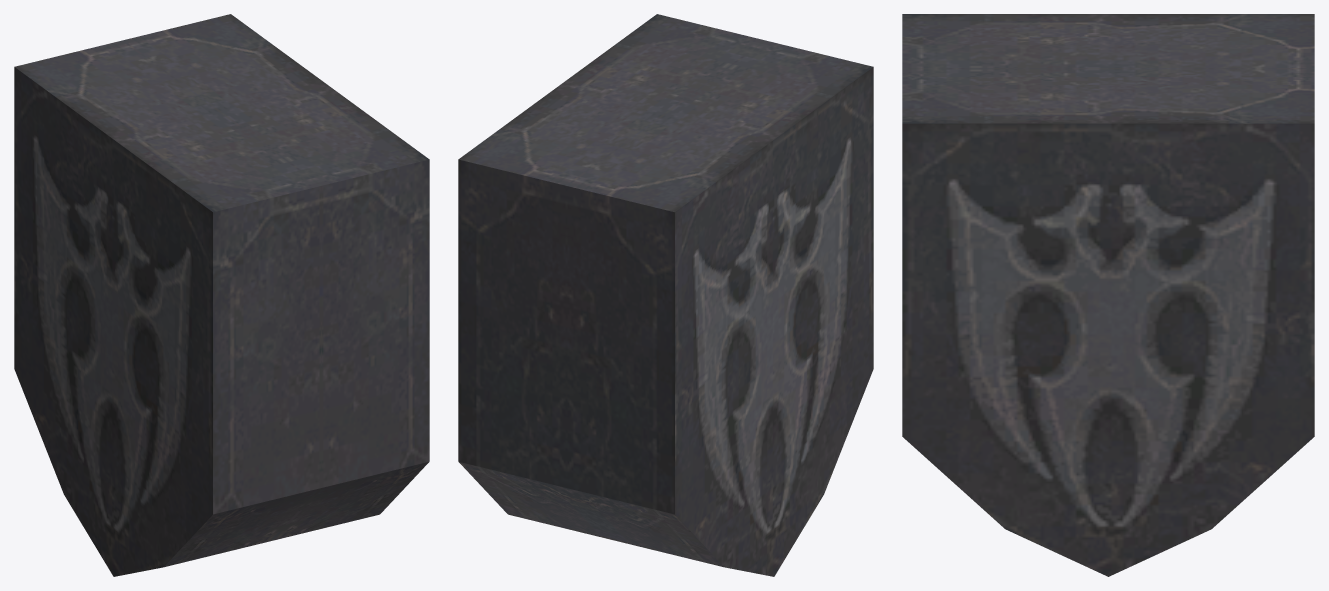
The model's file is bg_rad_kamen_deco05_sm_jjh.obj.
The picture shows the model from 3 angles, left to right: view 1: azimuth 30°, elevation 25°; view 2: azimuth 150°, elevation 25°; view 3: azimuth 270°, elevation 25°; orthographic projection. The views are drawn at different scales.
Parts seen in each view (by area): view 1: bg_rad_kamen_deco05_sm_jjh_0; view 2: bg_rad_kamen_deco05_sm_jjh_0; view 3: bg_rad_kamen_deco05_sm_jjh_0.
Part boxes in pixels (<box>): bg_rad_kamen_deco05_sm_jjh_0: <box>14,14,429,576</box>; bg_rad_kamen_deco05_sm_jjh_0: <box>458,14,873,576</box>; bg_rad_kamen_deco05_sm_jjh_0: <box>902,14,1314,576</box>.
Size of the model in its own units: 0.2687 by 0.5185 by 0.4271.
1 material, 1 textured.
